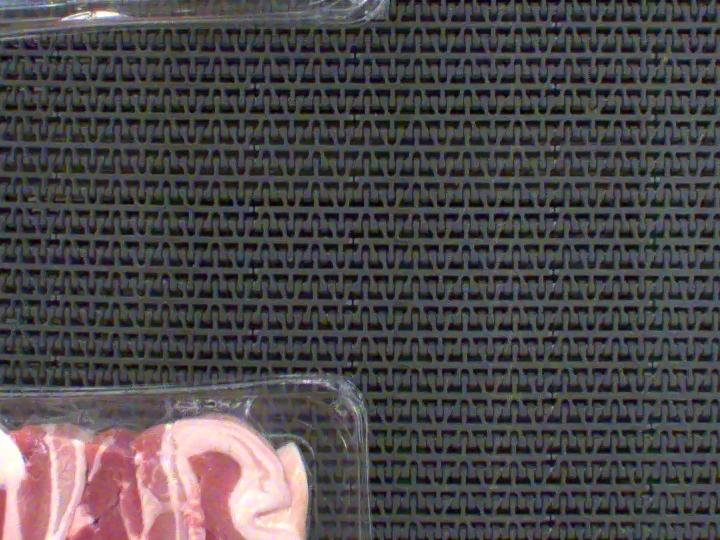packaging-error: (137, 387, 282, 431)
unsealed: (0, 402, 155, 459)
